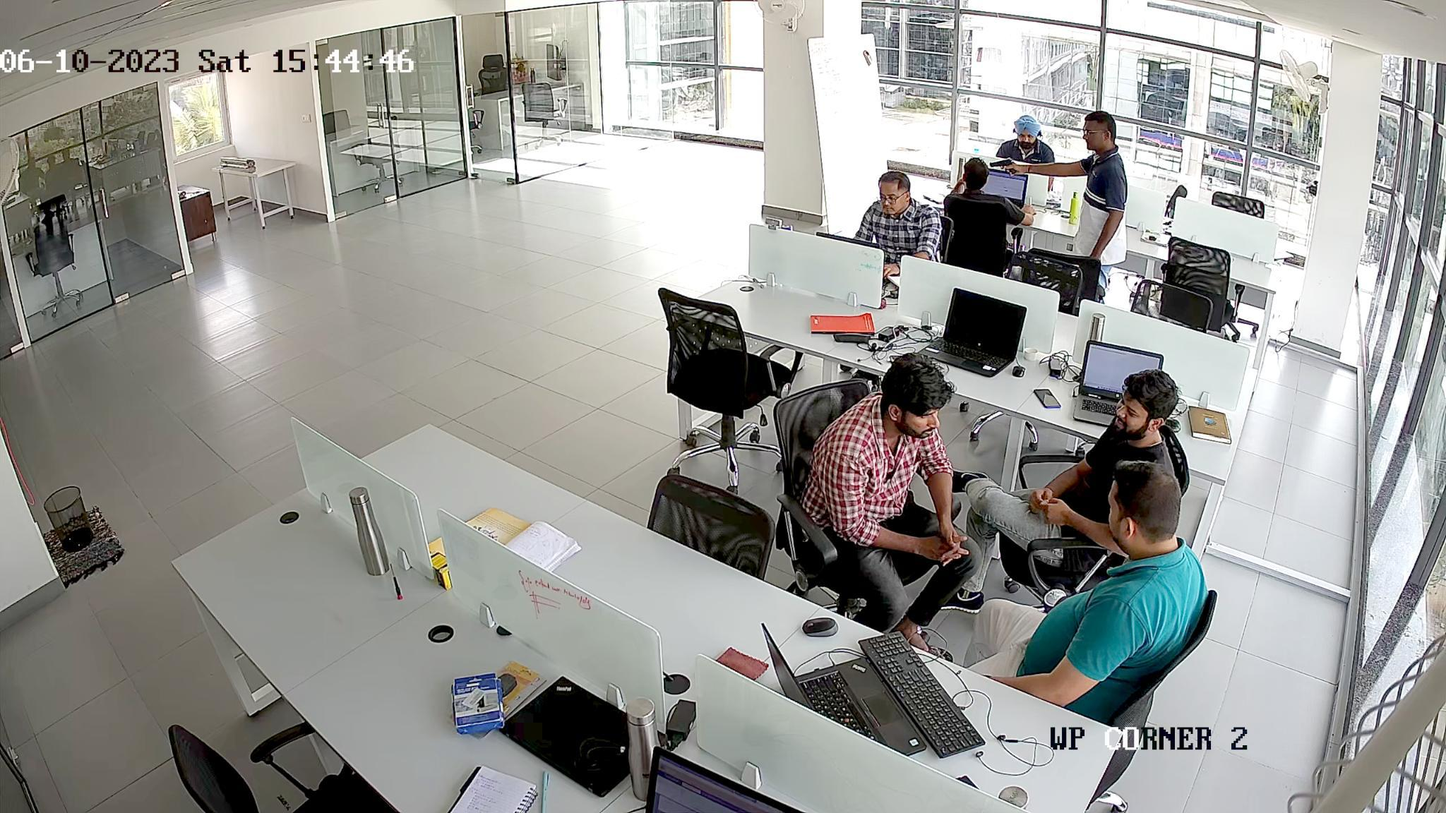gun: (989, 158, 1016, 174)
